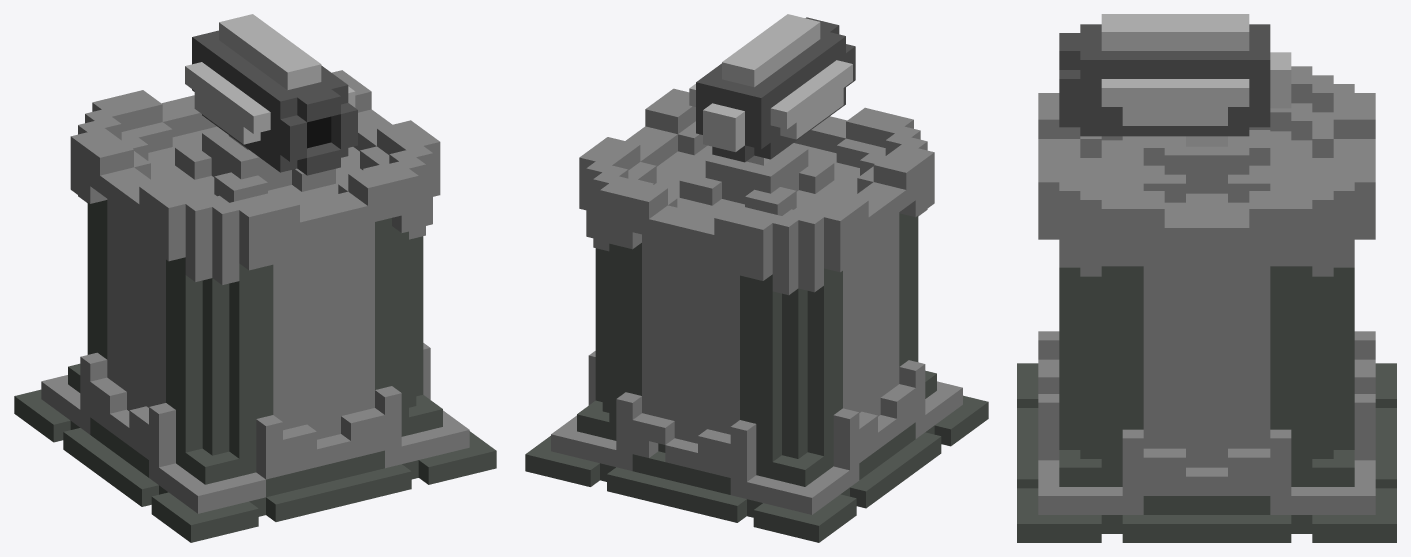
File: pushka2.obj
The picture shows the model from 3 angles, left to right: view 1: azimuth 30°, elevation 25°; view 2: azimuth 150°, elevation 25°; view 3: azimuth 270°, elevation 25°; orthographic projection. The views are drawn at different scales.
Bounding box in the file's own units: 1.8 × 2.3 × 1.8.
1 material, 1 textured.
